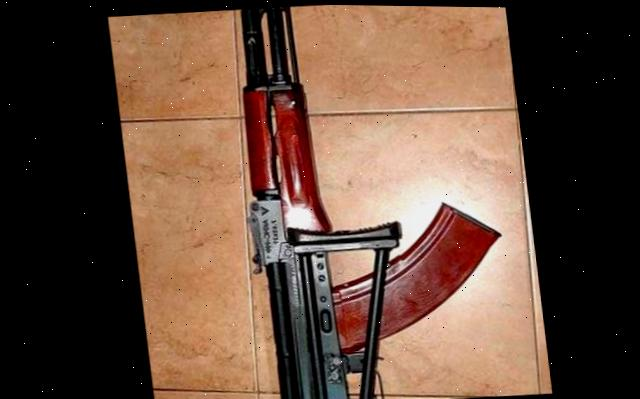rifle: (198, 2, 501, 399)
